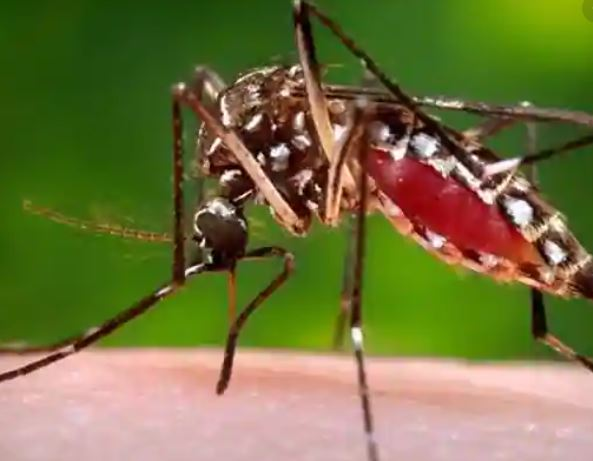dengue_mosquito: (1, 1, 592, 397)
